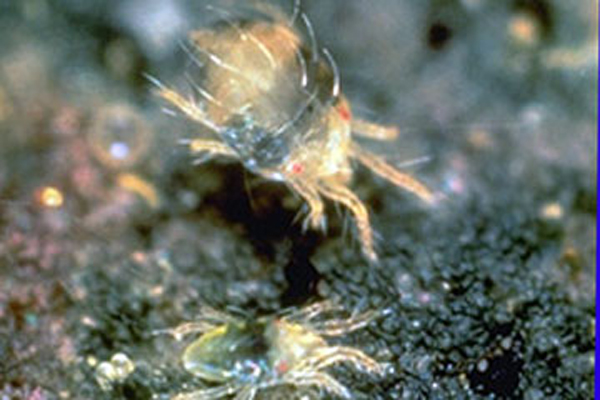Mites: (153, 12, 400, 264), (161, 304, 378, 400)
